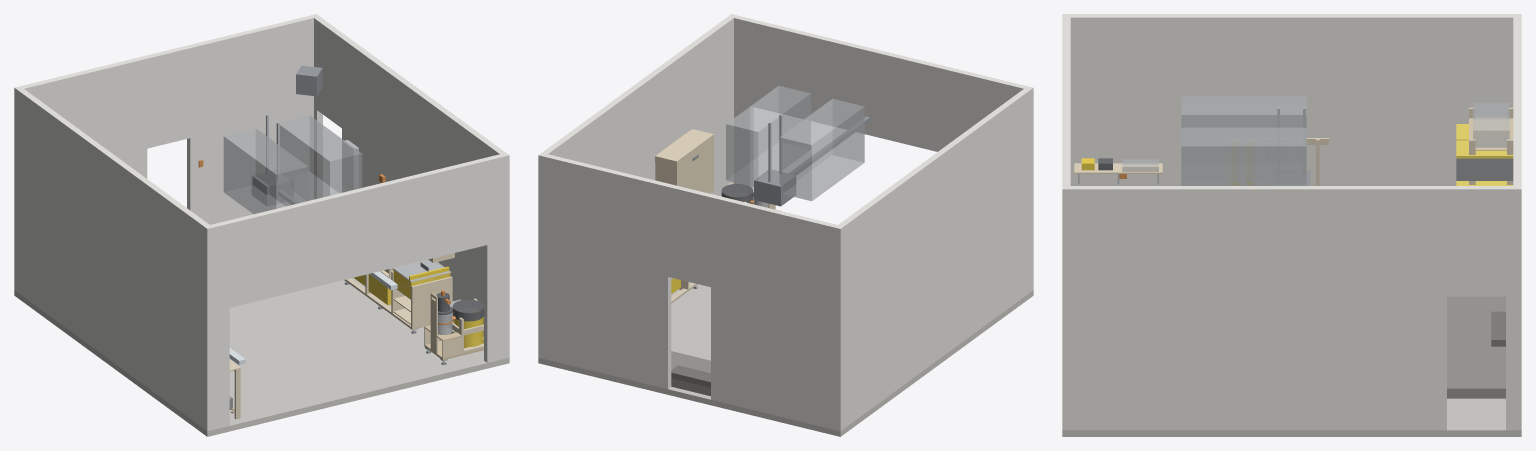
File: garage-shop-closed.glb
3 renders of one model, left to right at view 1: azimuth 30°, elevation 25°; view 2: azimuth 150°, elevation 25°; view 3: azimuth 270°, elevation 25°, orthographic. The views are drawn at different scales.
Visible parts, largest first — view 1: Wall West/west wall, Wall North/north wall, Slab/slab, Wall South/door header, Wall East/east wall, Bike Hoists/bike 1, Wall South/south return west, Bike Hoists/bike 2, Wall South/south return east, Flip Bench/end panel S, Garage Opener/motor, Heater/unit heater (+3 smaller); view 2: Wall North/north wall, Wall West/west wall, Wall South/door header, Wall East/east wall, Bike Hoists/bike 1, Bike Hoists/bike 2, Slab/slab, Wall South/south return east, Garage Opener/motor, Wall South/south return west, Door South/face, Landing/landing (+5 smaller); view 3: Wall East/east wall, Wall West/west wall, Bike Hoists/bike 1, Bike Hoists/bike 2, Landing/landing, Slab/slab, Wall North/north wall, Wall South/south return east, Bulk Rack/light bins, Bulk Rack/shelf 4, Wall South/door header, Bulk Rack/tote 3-2 (+5 smaller).
Boxes of the visible parts, x1,y1,x2,y2 form: Wall West/west wall: (18,89,209,428); Wall North/north wall: (14,14,319,292); Slab/slab: (14,277,509,436); Wall South/door header: (226,158,487,307); Wall East/east wall: (314,16,505,335); Bike Hoists/bike 1: (223,128,308,214); Wall South/south return west: (204,221,229,431); Bike Hoists/bike 2: (279,115,362,200); Wall South/south return east: (484,153,509,362); Flip Bench/end panel S: (411,276,452,327); Garage Opener/motor: (252,170,293,205); Heater/unit heater: (296,65,322,96); Wall North/north wall: (538,153,843,431); Wall West/west wall: (838,89,1029,428); Wall South/door header: (750,19,1010,151); Wall East/east wall: (542,16,733,196); Bike Hoists/bike 1: (779,98,864,201); Bike Hoists/bike 2: (726,85,810,186); Slab/slab: (538,282,1033,436); Wall South/south return east: (728,14,753,198); Garage Opener/motor: (754,169,796,206); Wall South/south return west: (1008,82,1033,292); Door South/face: (695,134,713,193); Landing/landing: (671,351,710,396); Wall East/east wall: (1070,186,1513,430); Wall West/west wall: (1070,14,1513,185); Bike Hoists/bike 1: (1181,96,1306,181); Bike Hoists/bike 2: (1181,127,1306,185); Landing/landing: (1447,296,1505,398); Slab/slab: (1062,398,1521,436); Wall North/north wall: (1513,14,1521,430); Wall South/south return east: (1062,176,1070,430); Bulk Rack/light bins: (1473,102,1509,147); Bulk Rack/shelf 4: (1469,117,1513,150); Wall South/door header: (1062,27,1070,176); Bulk Rack/tote 3-2: (1456,158,1513,180).
Bounding box in the file's own units: 225 × 148 × 249.
